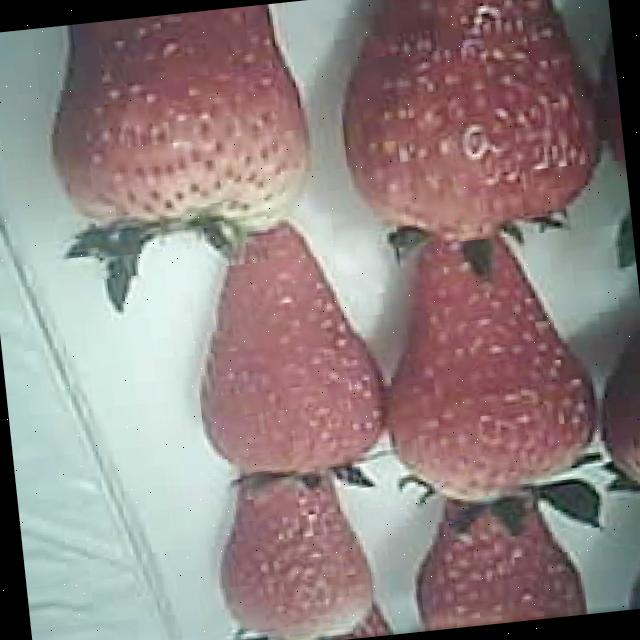strawberry: (41, 1, 320, 256), (330, 0, 606, 241), (370, 217, 602, 502), (184, 220, 388, 490), (210, 469, 373, 640)
